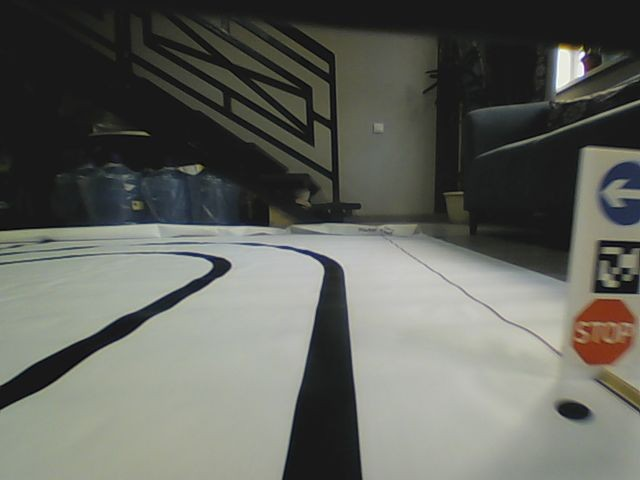Stop: (569, 298, 637, 362)
